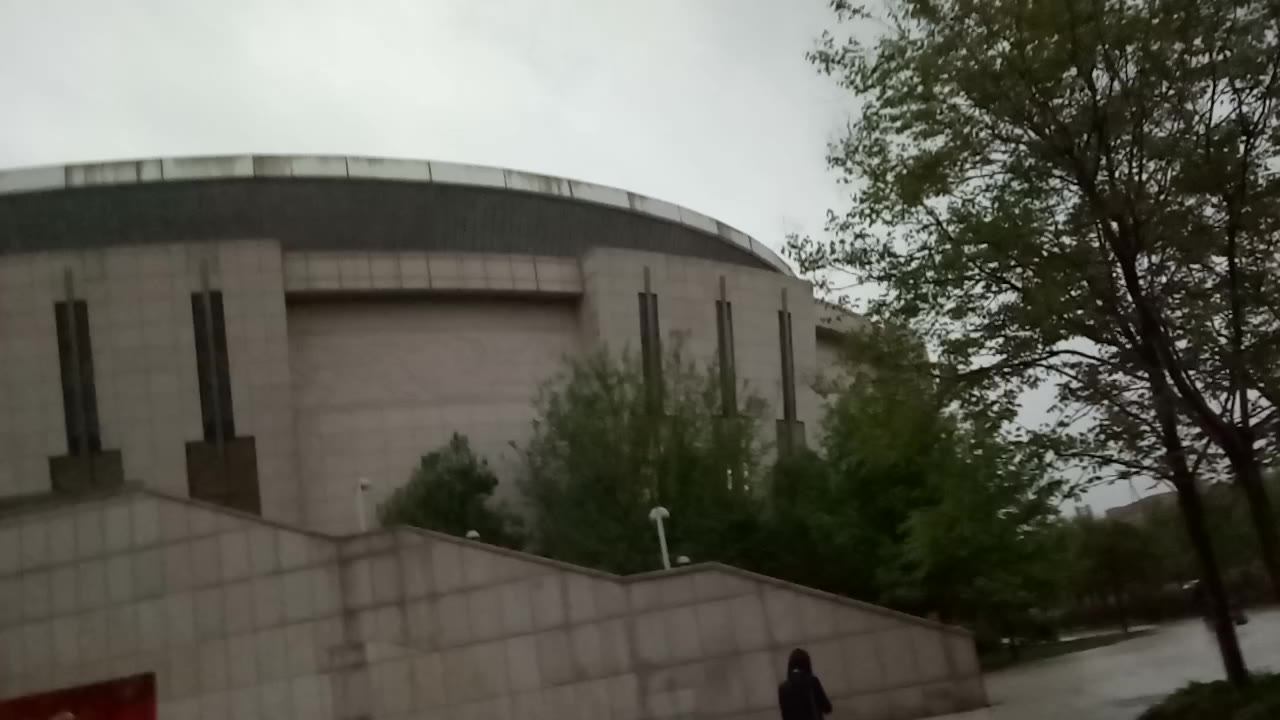zhongtiww: (1, 133, 1008, 712)
